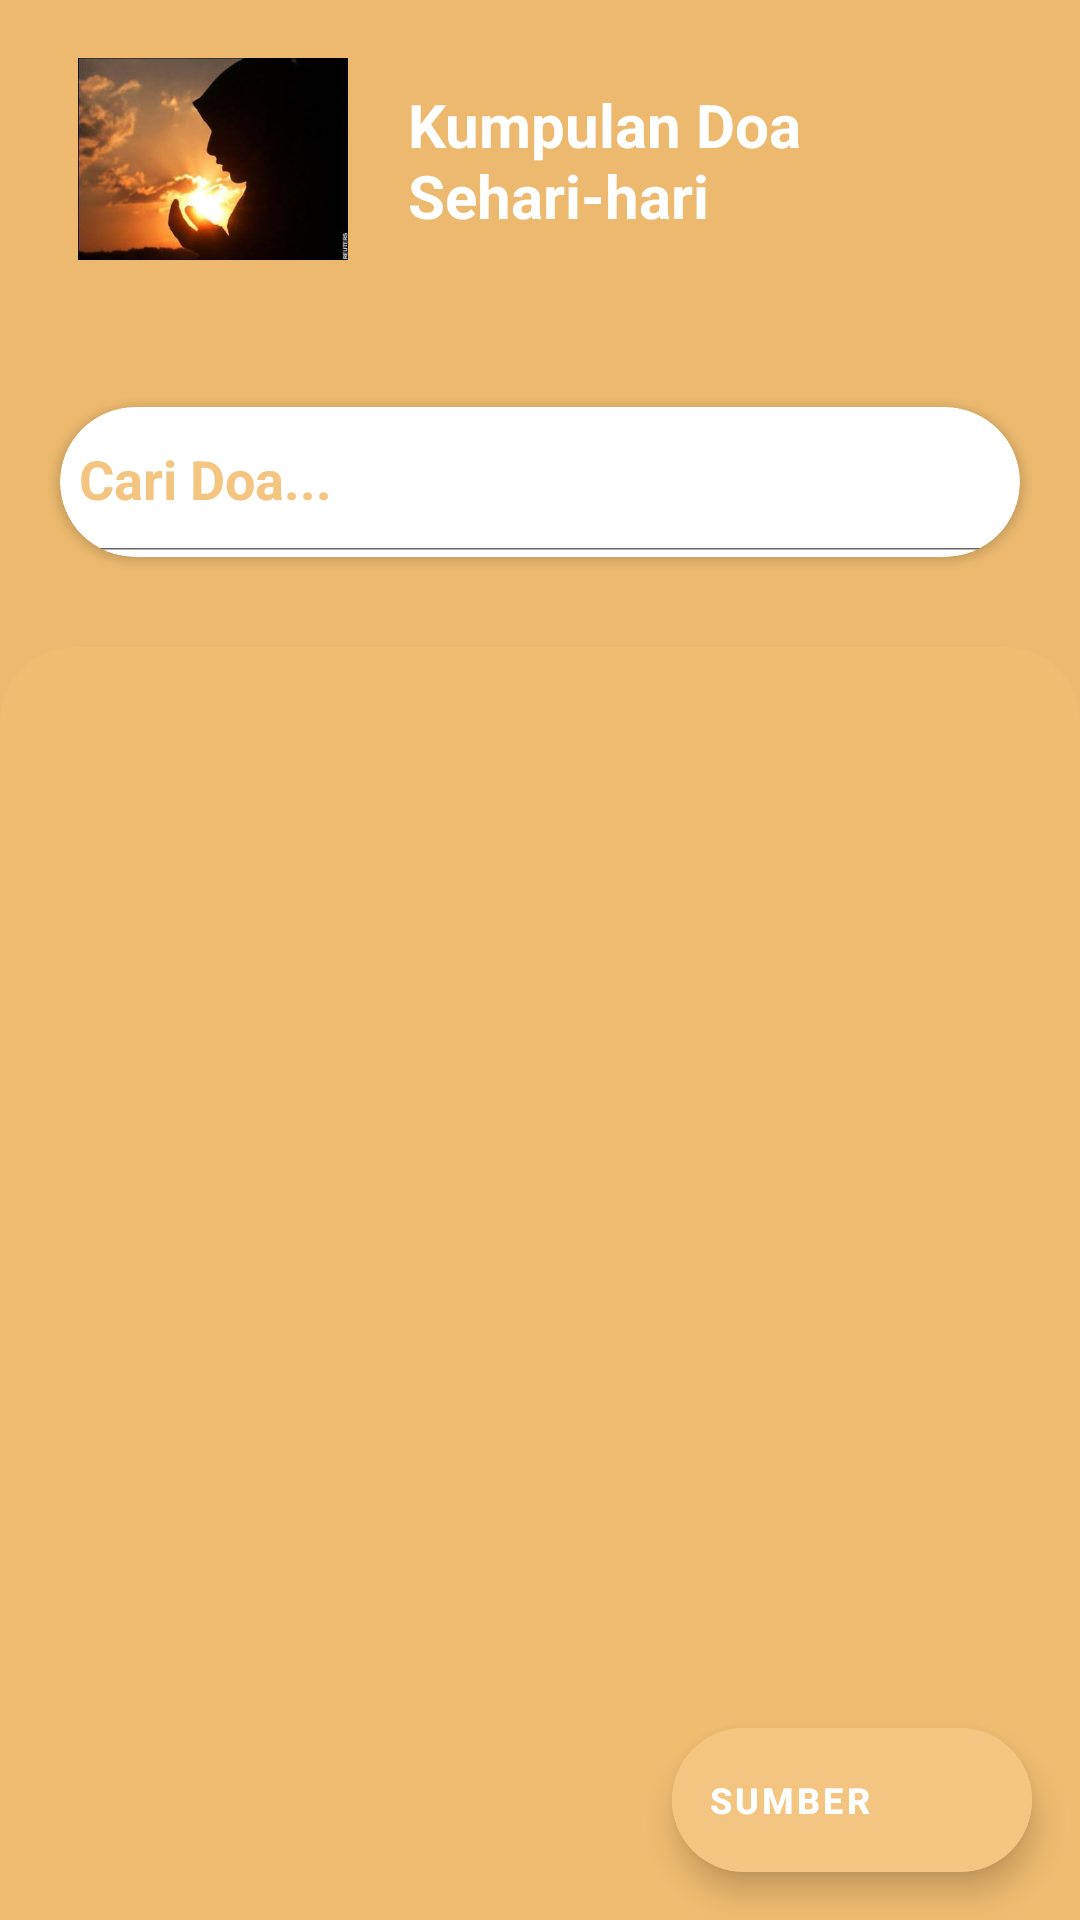

Icon bounding boxes for this 1080px×1920px phone screenshot, format region(x1, y1, x2, y2):
berdoa: region(78, 58, 348, 260)
